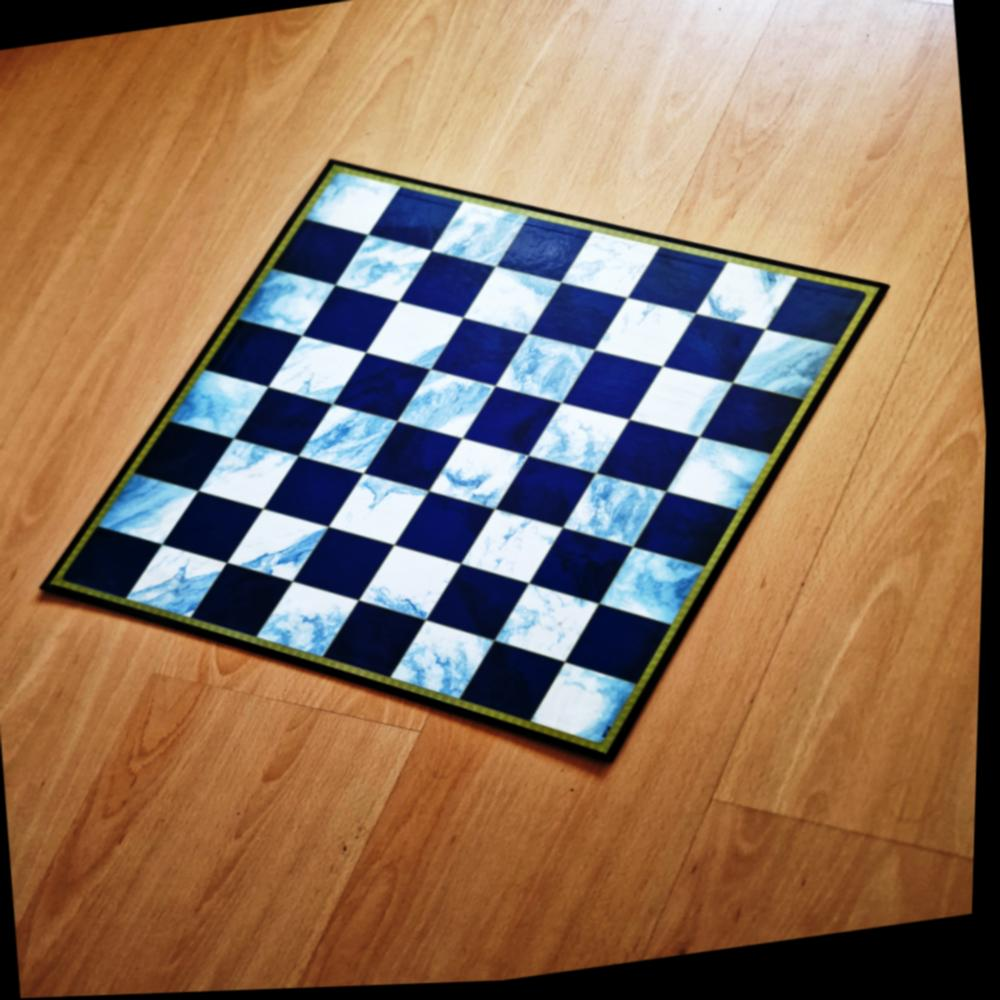chessfield: (524, 657, 652, 771), (597, 541, 722, 646), (385, 613, 506, 711), (662, 435, 785, 531), (564, 600, 681, 700), (493, 580, 610, 678), (558, 470, 676, 565), (256, 576, 371, 673), (733, 326, 851, 420), (463, 504, 579, 599), (92, 466, 209, 559), (465, 634, 579, 729), (361, 538, 477, 631), (635, 487, 749, 581), (527, 396, 642, 489), (50, 522, 170, 611), (427, 560, 541, 653), (122, 538, 236, 631), (628, 362, 743, 454), (231, 504, 345, 596), (198, 431, 310, 523), (531, 527, 643, 619), (324, 473, 438, 563), (765, 275, 880, 362), (700, 383, 811, 473), (322, 601, 431, 692), (164, 361, 278, 448), (597, 418, 707, 508), (427, 432, 538, 521), (593, 290, 705, 378), (297, 399, 407, 488), (493, 332, 604, 420), (295, 162, 406, 250), (394, 367, 503, 456), (193, 556, 302, 645), (363, 295, 472, 382), (237, 266, 347, 352), (661, 311, 772, 396), (335, 228, 442, 316), (163, 485, 271, 572), (393, 490, 501, 577), (695, 257, 803, 344), (266, 332, 375, 418), (294, 525, 401, 611), (136, 416, 243, 502), (560, 350, 668, 435), (496, 453, 602, 539), (557, 227, 664, 312), (462, 262, 567, 348), (464, 383, 569, 468), (429, 198, 535, 282), (429, 316, 534, 400), (627, 246, 733, 329), (331, 349, 436, 432), (529, 280, 634, 363), (232, 385, 336, 468), (265, 452, 369, 535), (366, 418, 470, 501), (302, 283, 406, 365), (208, 316, 311, 398), (400, 246, 503, 328), (270, 217, 373, 298), (494, 215, 595, 295), (368, 183, 466, 261)
